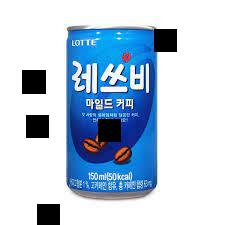letsbe: (65, 24, 158, 200)
